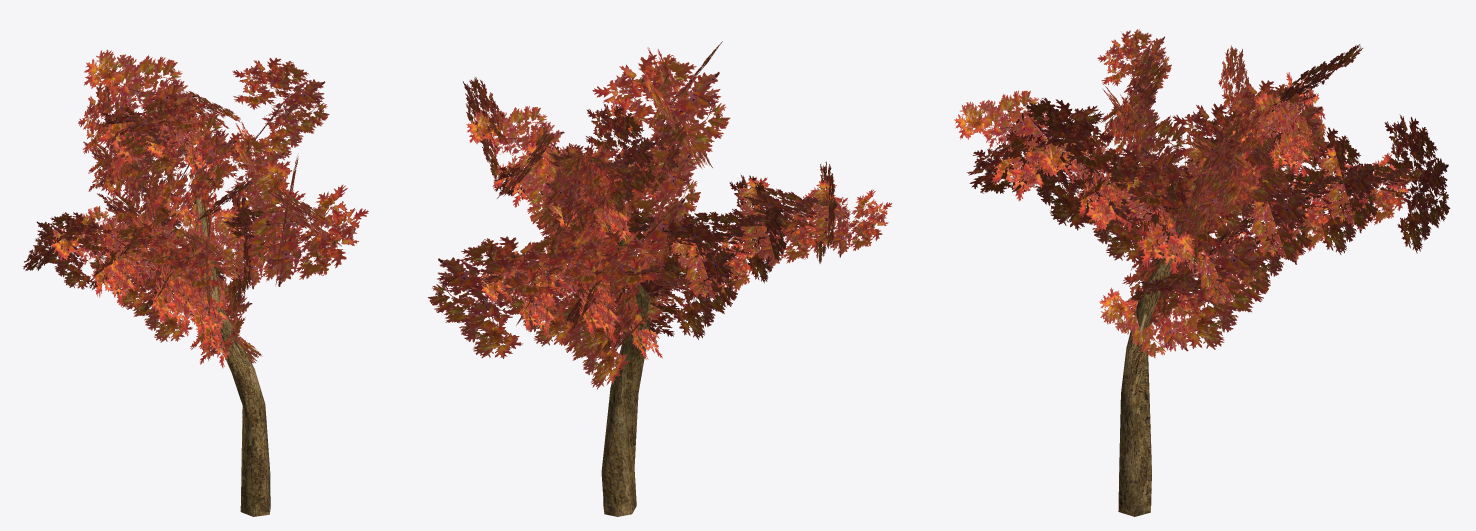
The model's file is Tree08.FBX.
3 renders of one model, left to right at view 1: azimuth 30°, elevation 25°; view 2: azimuth 150°, elevation 25°; view 3: azimuth 270°, elevation 25°, orthographic. The views are drawn at different scales.
Visible parts, largest first — view 1: Plane74, Cylinder09, Plane81, Plane86, Plane83, Plane89, Plane60, Plane65, Plane66, Plane62, Plane63, Plane78 (+22 smaller); view 2: Plane57, Plane73, Cylinder09, Plane54, Plane51, Plane89, Plane60, Plane80, Plane67, Plane64, Plane62, Plane85 (+23 smaller); view 3: Cylinder09, Plane48, Plane73, Plane75, Plane70, Plane57, Plane54, Plane58, Plane87, Plane51, Plane81, Plane69 (+24 smaller).
Boxes of the visible parts, x1,y1,x2,y2 form: Plane74: (247, 159, 368, 286); Cylinder09: (194, 163, 270, 516); Plane81: (232, 57, 329, 160); Plane86: (84, 49, 196, 171); Plane83: (141, 112, 237, 230); Plane89: (120, 93, 208, 176); Plane60: (125, 242, 222, 342); Plane65: (51, 206, 140, 306); Plane66: (33, 212, 112, 289); Plane62: (104, 214, 197, 336); Plane63: (89, 222, 183, 308); Plane78: (196, 132, 289, 222); Plane57: (428, 236, 563, 358); Plane73: (592, 54, 730, 199); Cylinder09: (597, 211, 650, 516); Plane54: (497, 230, 619, 346); Plane51: (546, 229, 665, 356); Plane89: (585, 103, 656, 213); Plane60: (654, 212, 737, 339); Plane80: (466, 106, 564, 207); Plane67: (810, 179, 892, 257); Plane64: (737, 176, 830, 269); Plane62: (662, 212, 802, 280); Plane85: (543, 144, 617, 237); Cylinder09: (1118, 152, 1244, 516); Plane48: (1133, 216, 1270, 349); Plane73: (1003, 97, 1114, 230); Plane75: (954, 90, 1060, 201); Plane70: (1064, 148, 1181, 263); Plane57: (1384, 114, 1450, 253); Plane54: (1300, 127, 1377, 254); Plane58: (1099, 276, 1204, 357); Plane87: (1172, 103, 1283, 234); Plane51: (1223, 177, 1312, 287); Plane81: (1203, 104, 1271, 211); Plane69: (1086, 165, 1194, 275).
Size of what is drawn, in the model's own units: 389 by 435 by 441.
2 materials, 2 textured.
